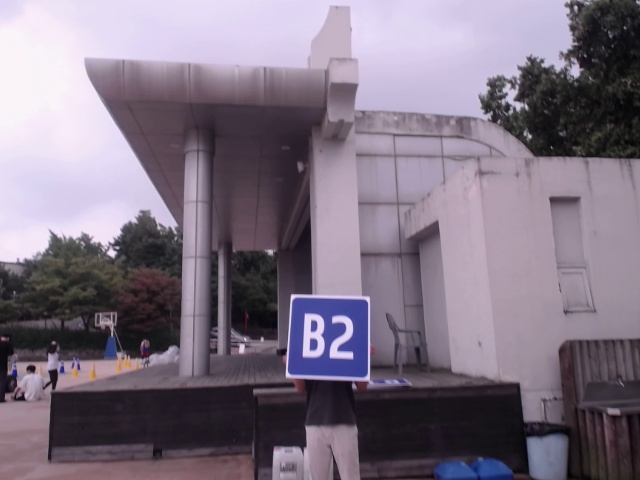delivery_b2: (287, 294, 371, 381)
